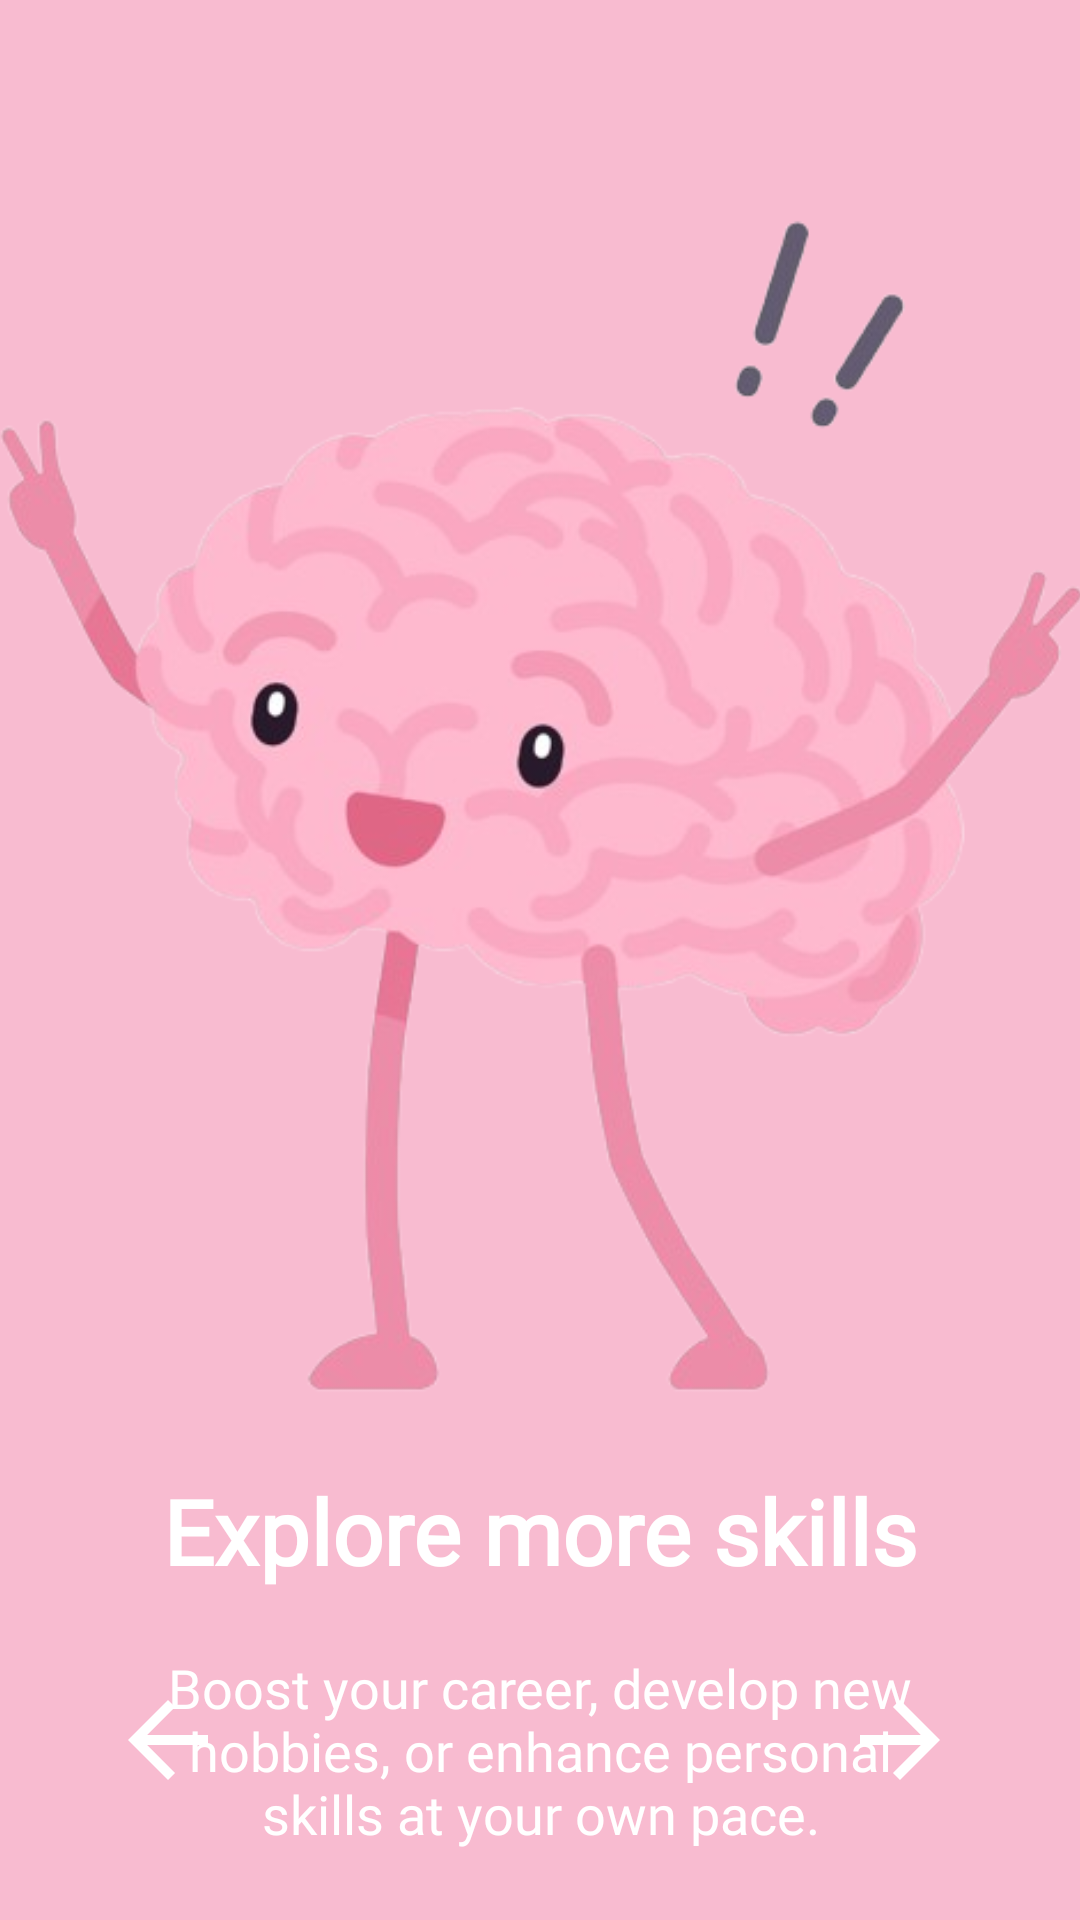

Locate icon controls on the screen. Image size 1080w x 1920h, boxes as (x1, y1, x2, y2).
arrow back: (128, 1680, 228, 1780)
arrow forward: (844, 1680, 940, 1780)
